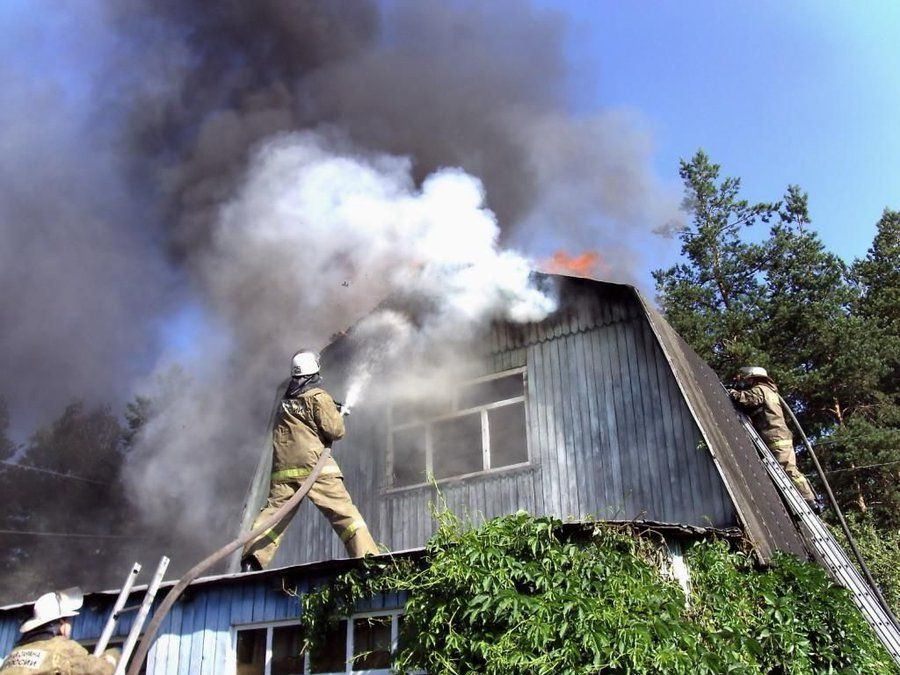fire: (105, 7, 600, 372)
